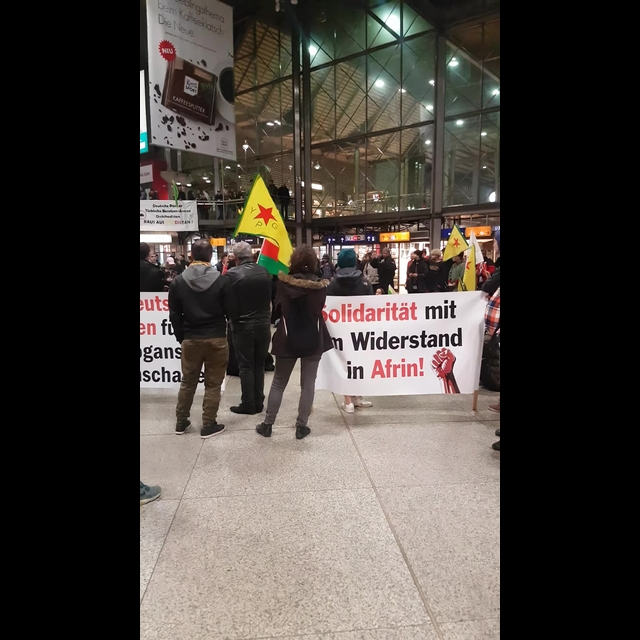YPG: (241, 195, 281, 235)
